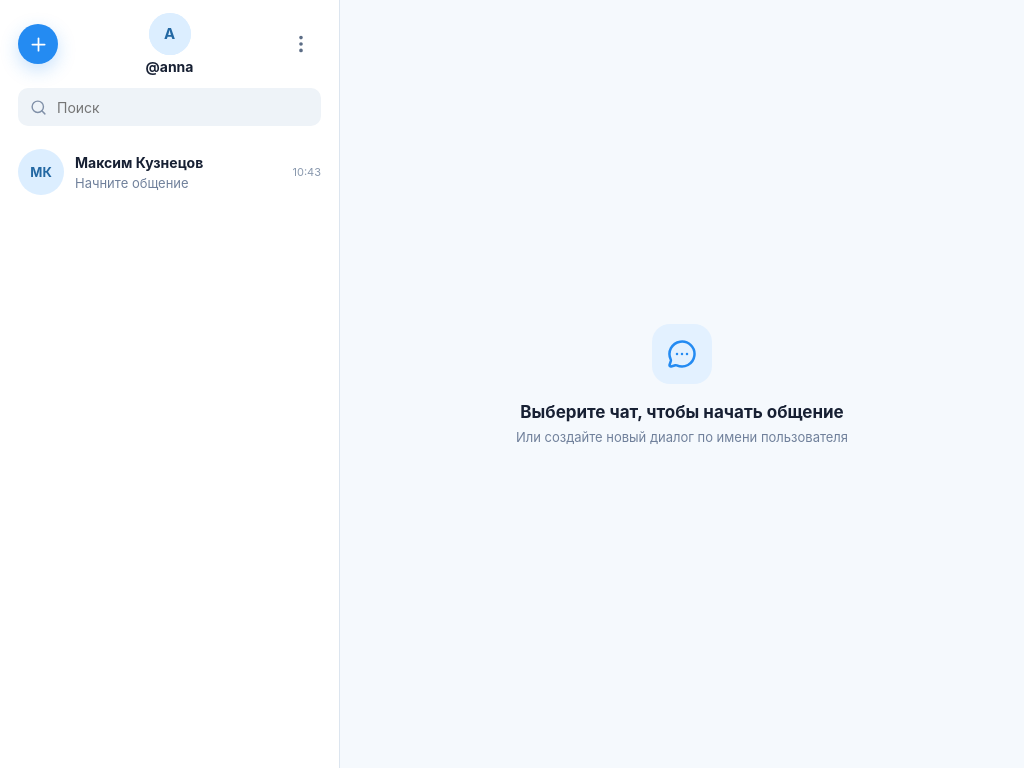
Test: Страница чатов › открывает редактор аватара по клику на аватар текущего пользователя
This screenshot has width=1024, height=768.
Expected: the text "Максим Кузнецов" is shown, [75,154,203,170]
Click the button named "Изменить аватар": (170, 34) [148,13,190,55]
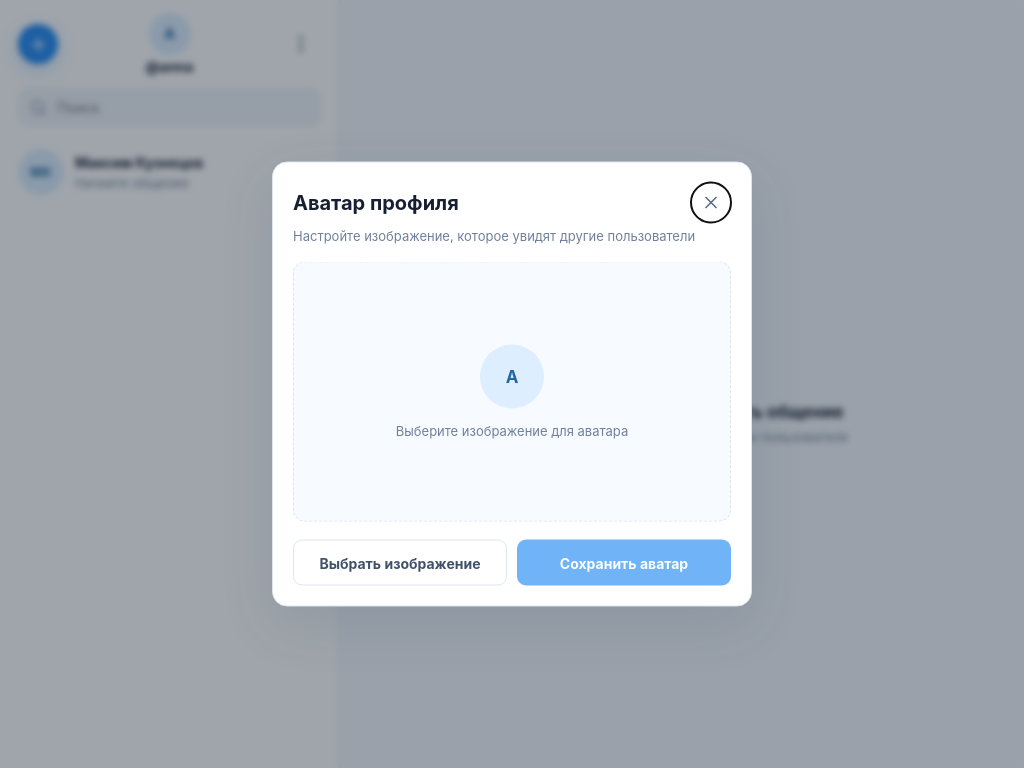
Result: the heading "Аватар профиля" is shown at [293,190,459,214]
Result: the text "Выберите изображение для аватара" is shown at [396,422,628,438]
